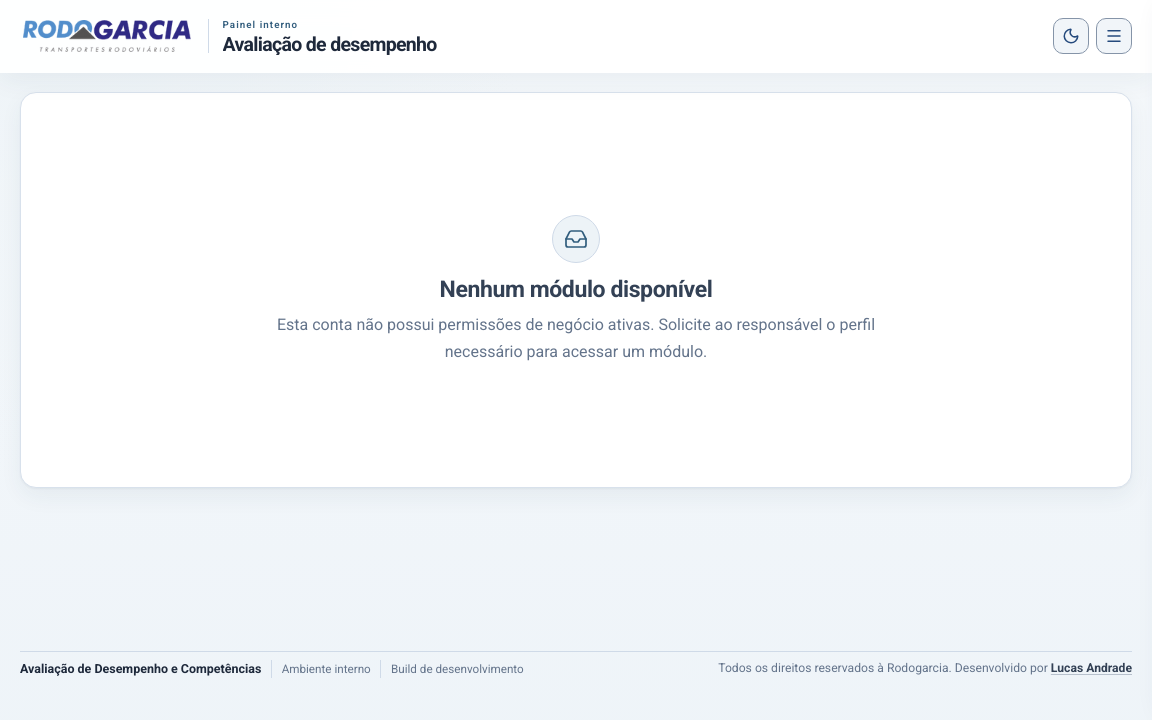
Scenario: App › volta ao login ao sair mesmo que o servidor não confirme o encerramento
Click the button named "Abrir menu". click: (1114, 36)
box: left=1096, top=18, right=1132, bottom=54
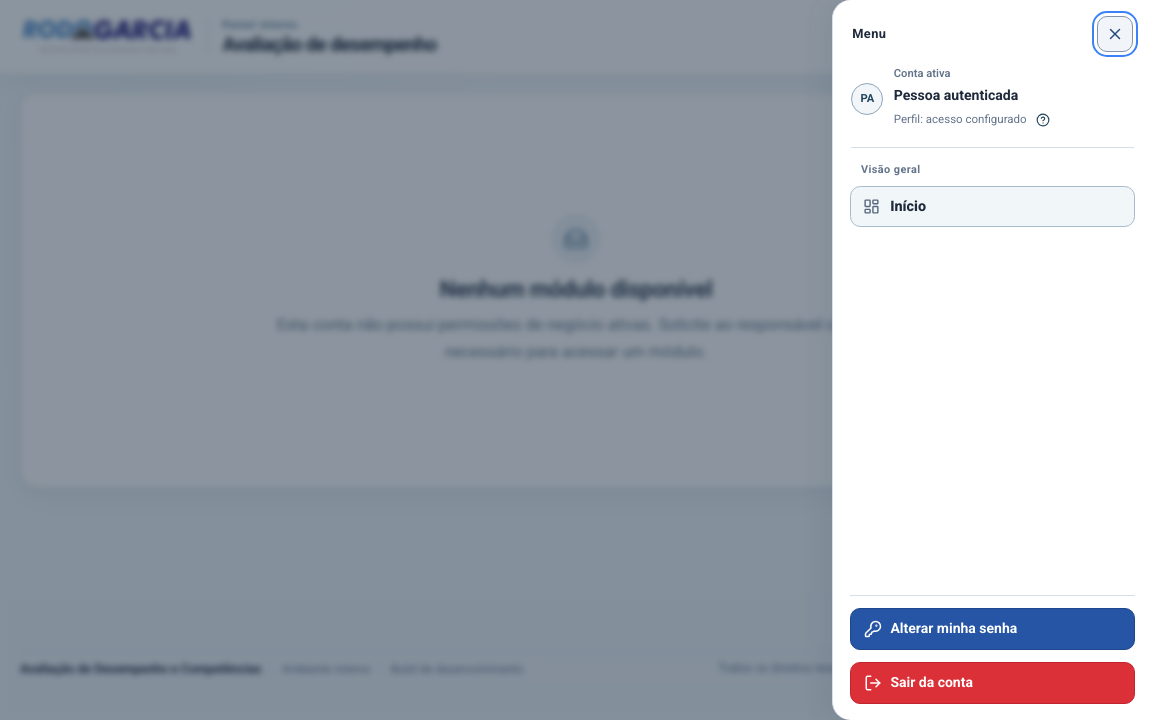
Click the button "Sair da conta". click: (932, 682)
box: left=850, top=662, right=1135, bottom=704
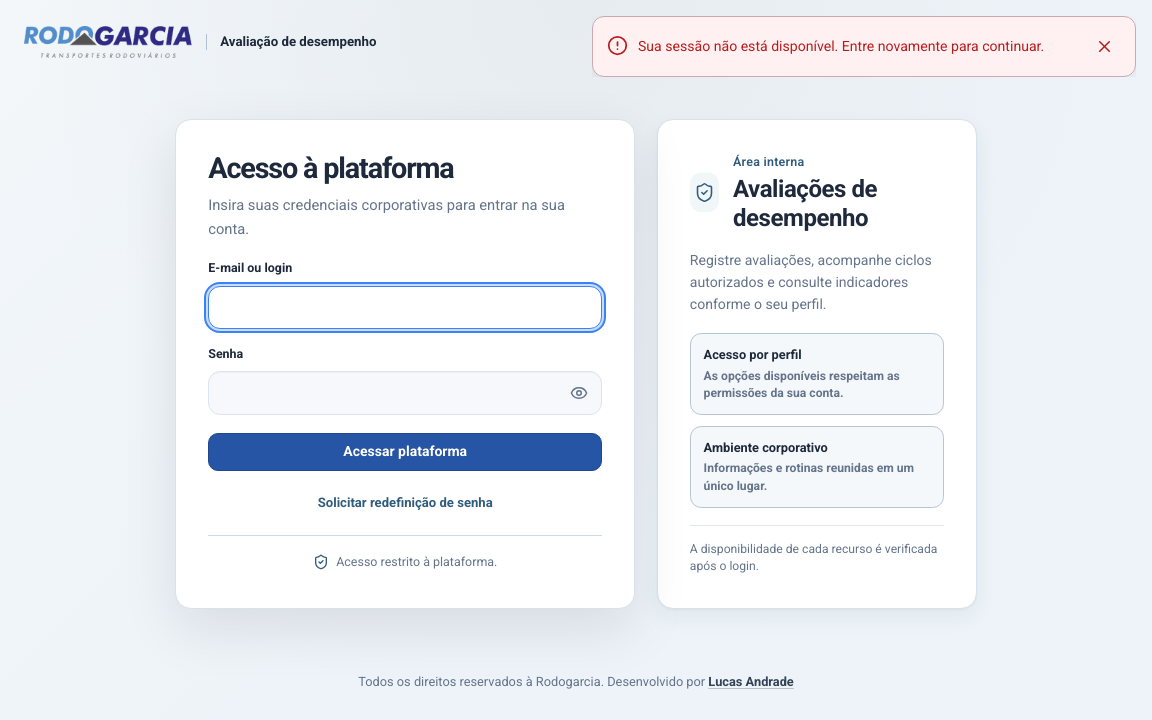
Expected: the field labelled "E-mail ou login" is shown, left=208, top=286, right=602, bottom=329
Expected: the text "Sua sessão não está disponível. Entre novamente para continuar." is shown, left=638, top=36, right=1078, bottom=57
